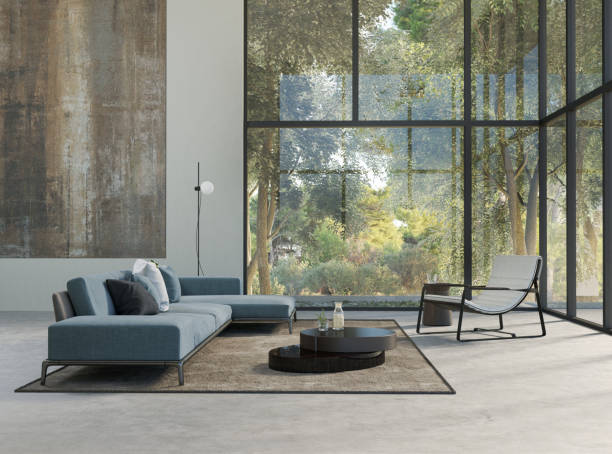chair: (413, 254, 548, 343)
floor lamp: (191, 160, 215, 276)
sofa: (37, 255, 299, 387)
table: (266, 323, 398, 374)
wall art: (1, 0, 170, 260)
